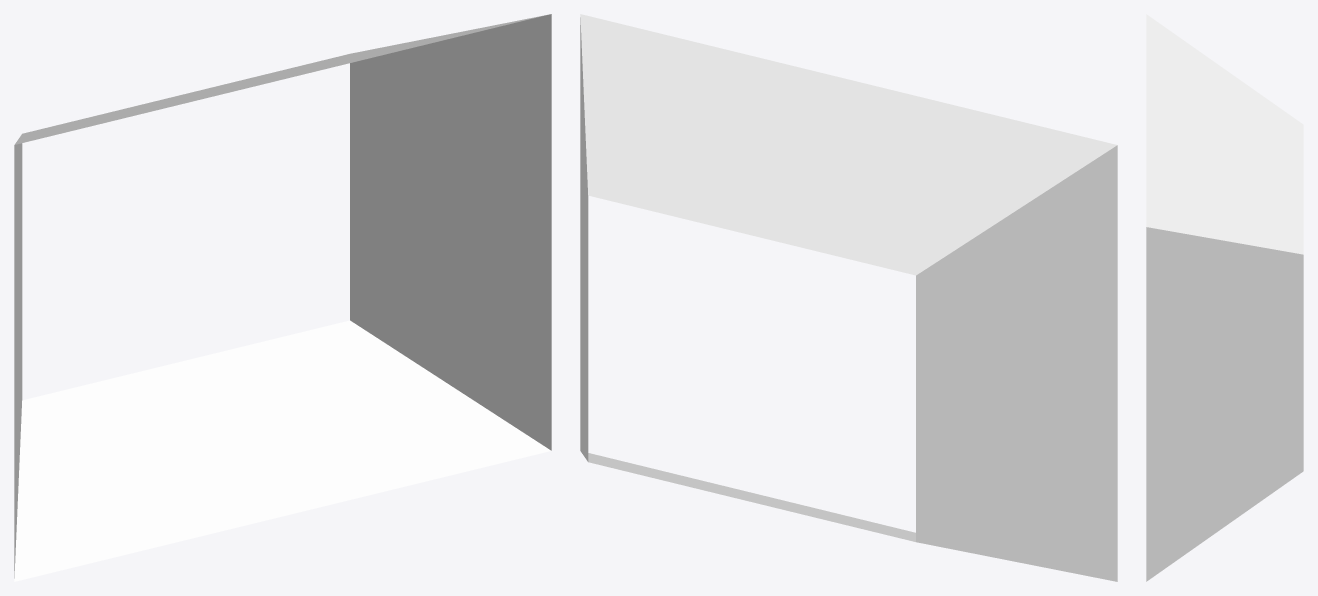
File: LUZ.fbx
3 views of the same model, side by side, from view 1: azimuth 30°, elevation 25°; view 2: azimuth 150°, elevation 25°; view 3: azimuth 270°, elevation 25° (orthographic). The views are drawn at different scales.
Parts seen in each view (by area): view 1: Plane; view 2: Plane; view 3: Plane.
Boxes of the visible parts, x1,y1,x2,y2 form: Plane: (14,14,551,581); Plane: (580,14,1117,581); Plane: (1146,14,1303,581).
Bounding box in the file's own units: 152 × 118 × 47.53.
1 material, 1 textured.
